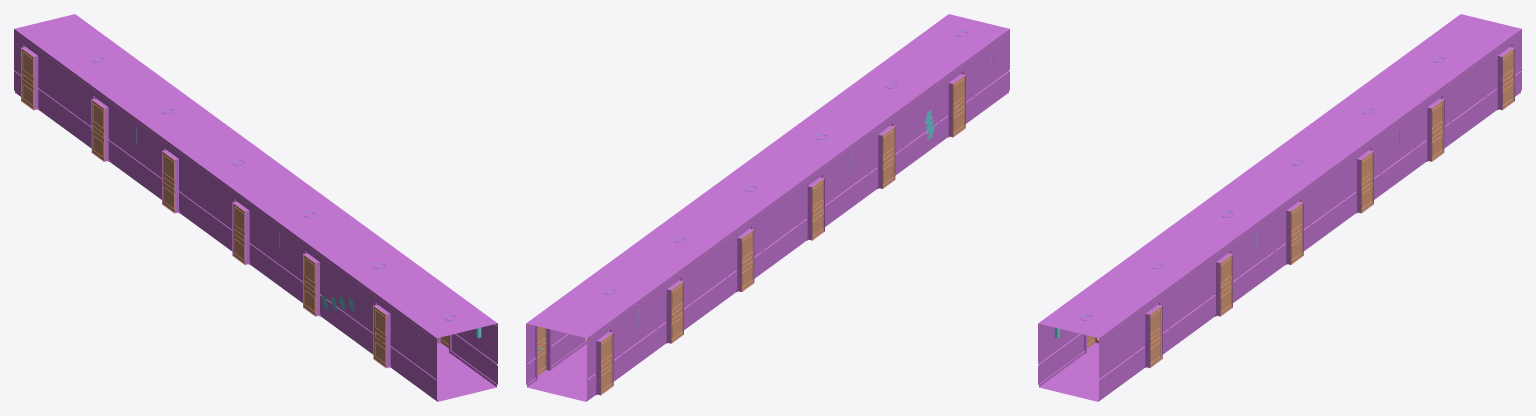
Rendered from _FPTexturing_Mandi_20250409 (3).fbx.
3 renders of one model, left to right at view 1: azimuth 30°, elevation 25°; view 2: azimuth 150°, elevation 25°; view 3: azimuth 330°, elevation 25°, orthographic.
Parts seen in each view (by area): view 1: Door; view 2: Door; view 3: Door.
Part boxes in pixels (x1=…): Door: x1=14, y1=14, x2=497, y2=401; Door: x1=526, y1=14, x2=1009, y2=401; Door: x1=1038, y1=14, x2=1521, y2=401.
Size of the model in its own units: 269 by 202 by 2400.
